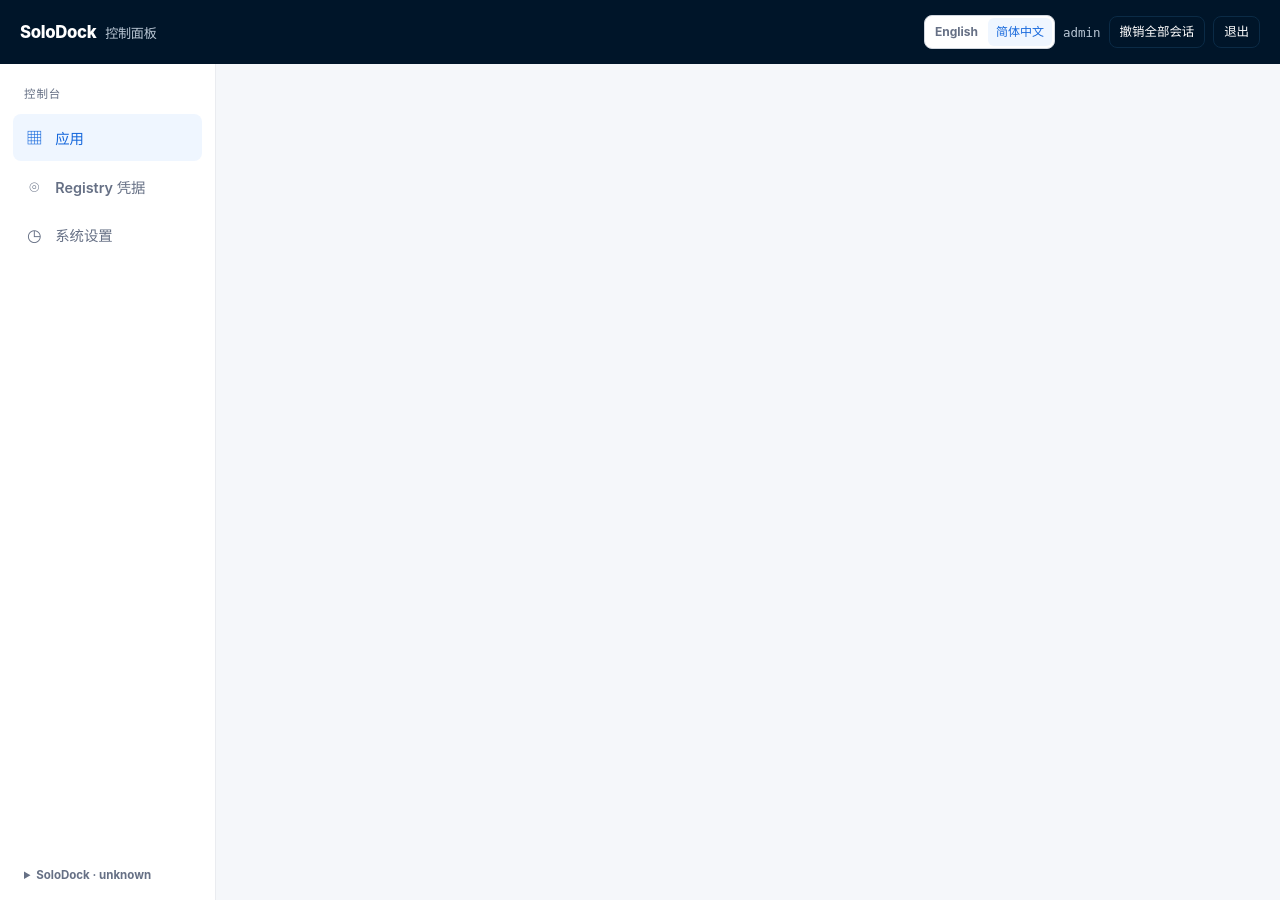
Test: AppShell › switches the authenticated shell language immediately
Click the button "English": (956, 32) x1=927 y1=18 x2=986 y2=46
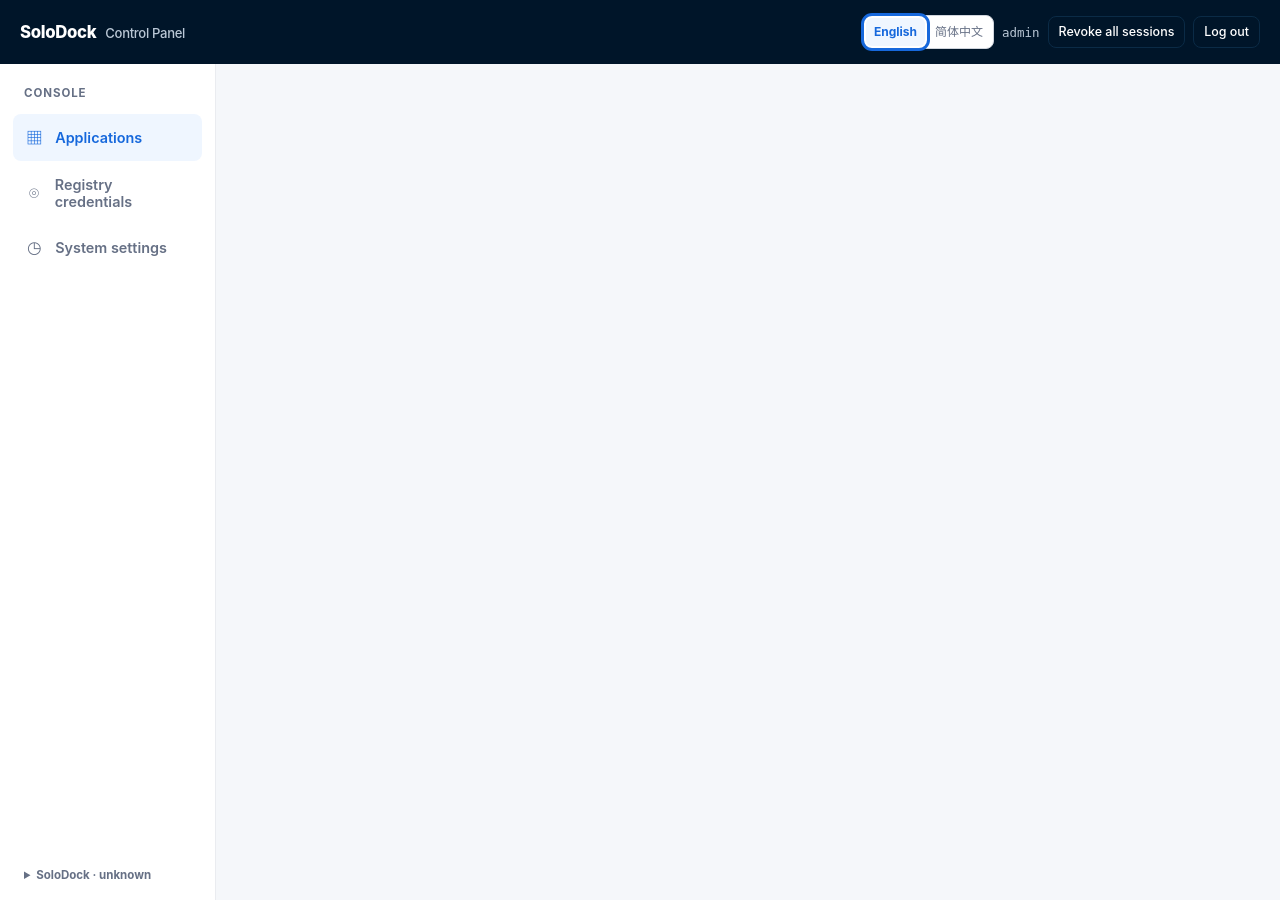
Check: the link "▦ Applications" is shown, box x1=13 y1=114 x2=202 y2=161
